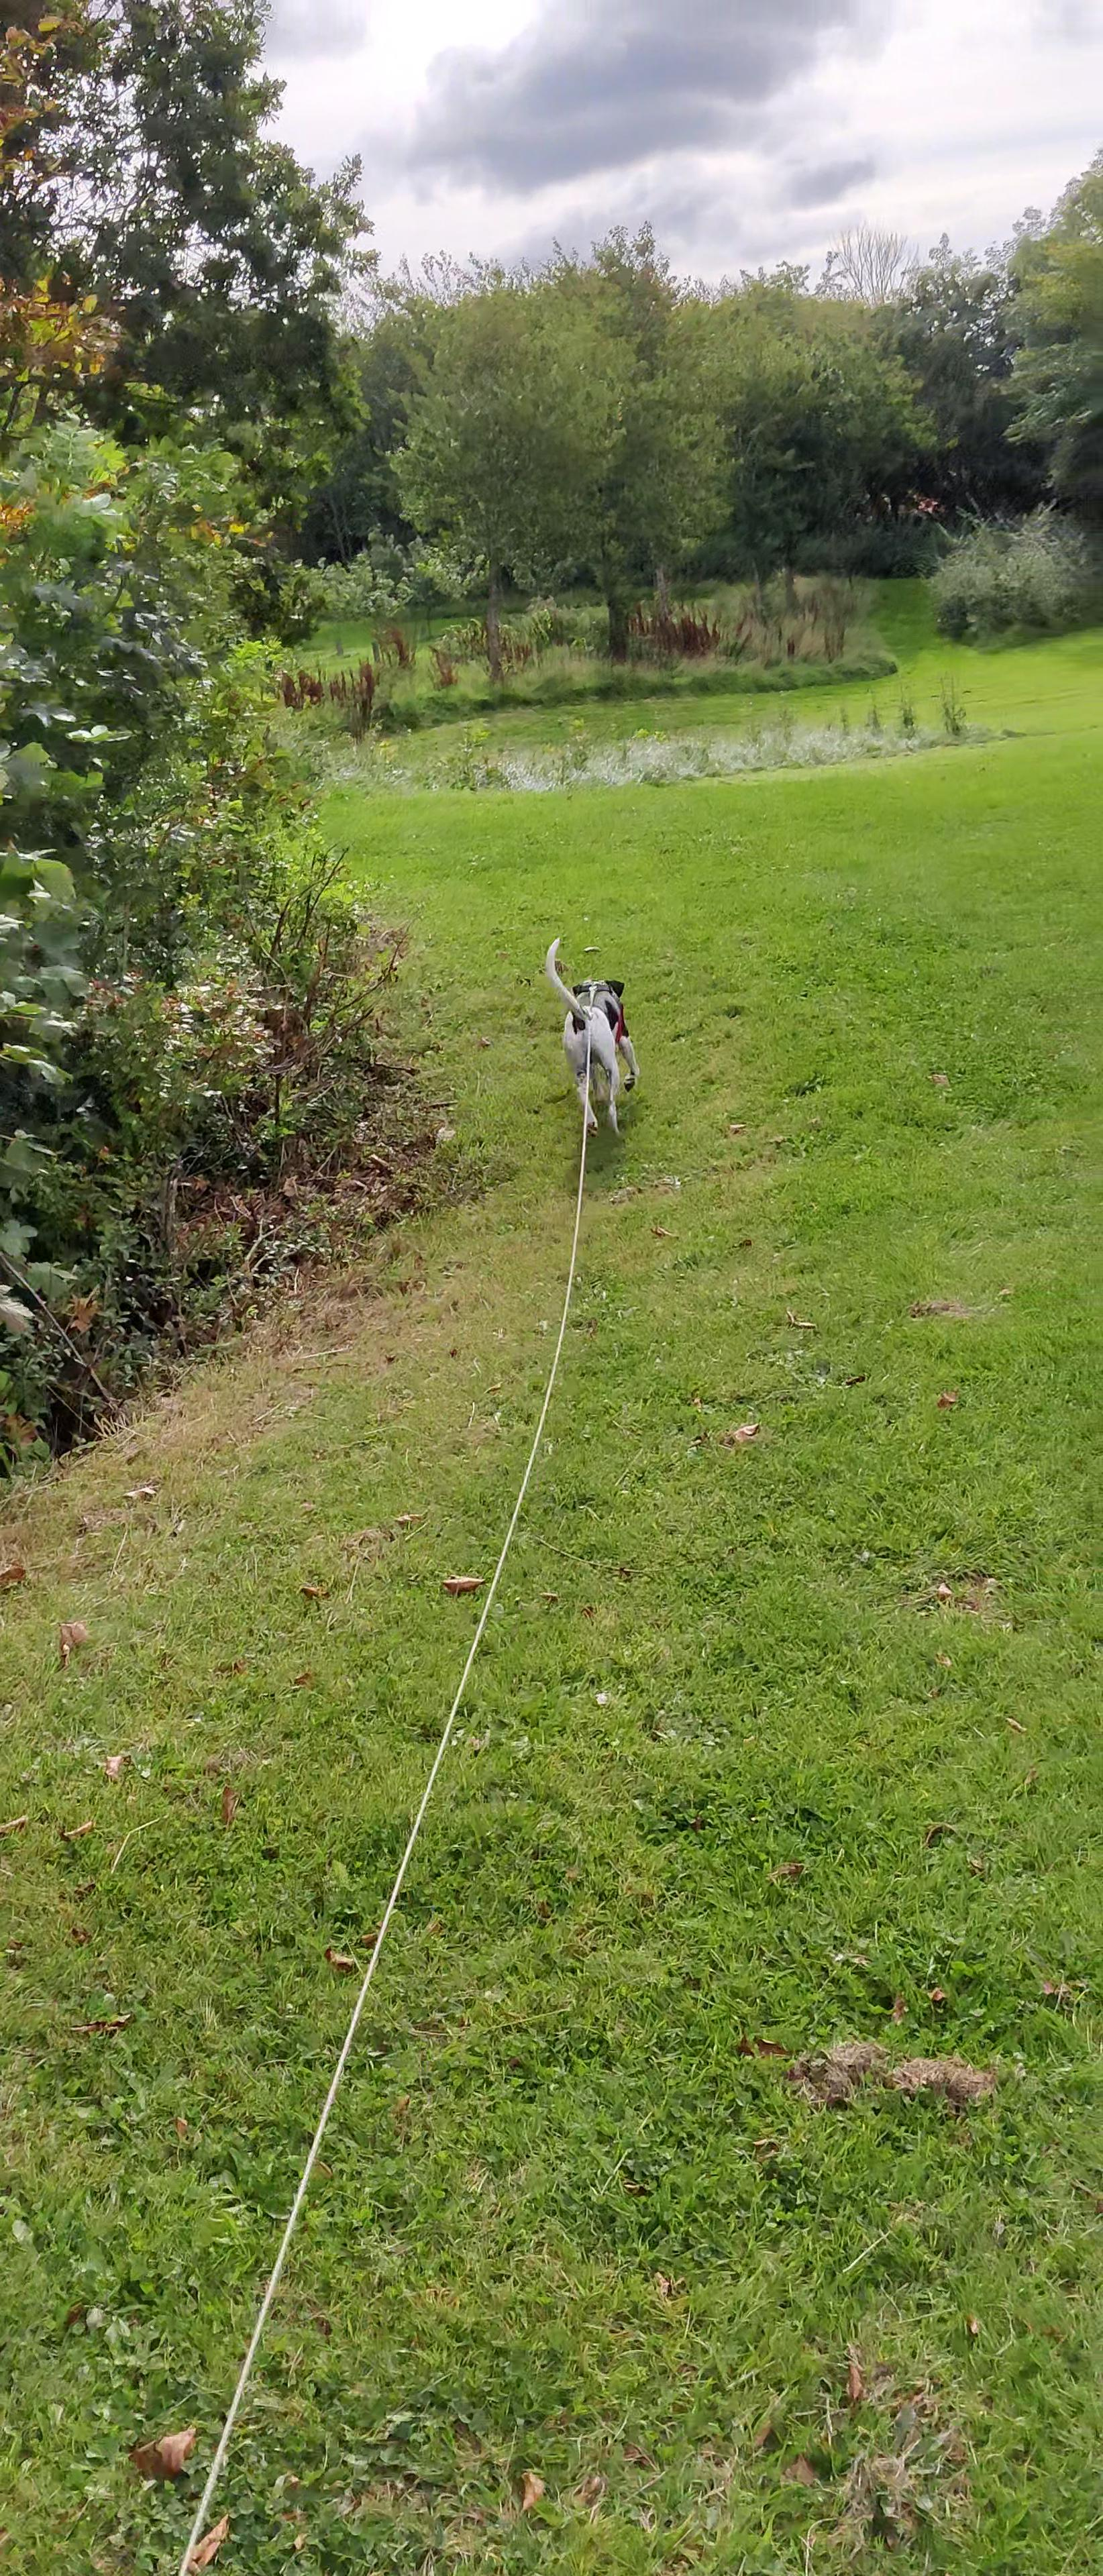Dog: (534, 931, 646, 1147)
